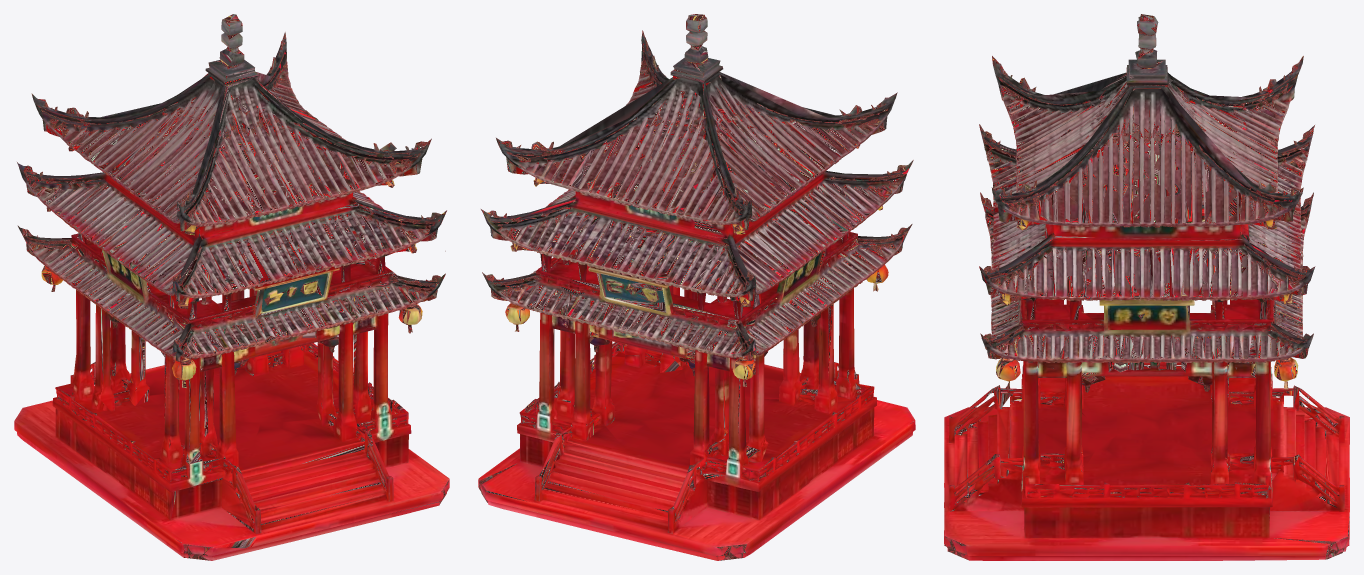
File: bq_library_pagoda.glb
3 views of the same model, side by side, from view 1: azimuth 30°, elevation 25°; view 2: azimuth 150°, elevation 25°; view 3: azimuth 270°, elevation 25° (orthographic). The views are drawn at different scales.
Size of the model in its own units: 1.21 by 1.89 by 1.46.
Materials: 1 (1 with a texture image).
